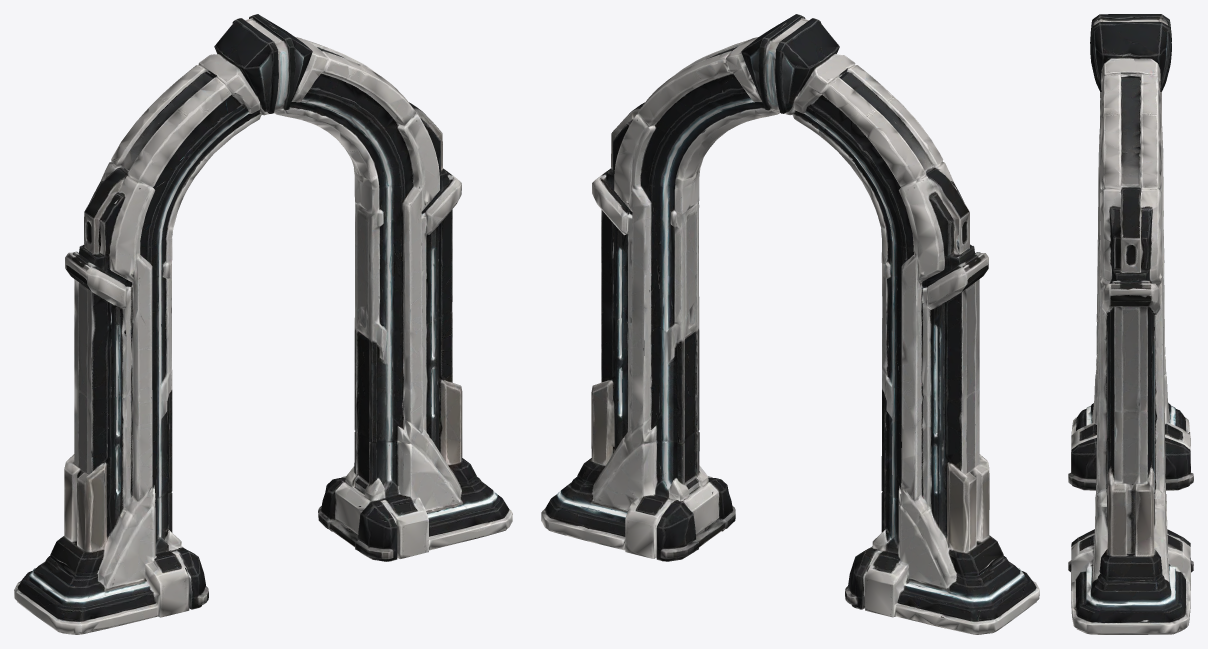
The model's file is prediction_portal.glb.
3 renders of one model, left to right at view 1: azimuth 30°, elevation 25°; view 2: azimuth 150°, elevation 25°; view 3: azimuth 270°, elevation 25°, orthographic. The views are drawn at different scales.
Bounding box in the file's own units: 1.7 × 1.9 × 0.4241.
Materials: 1 (1 with a texture image).
